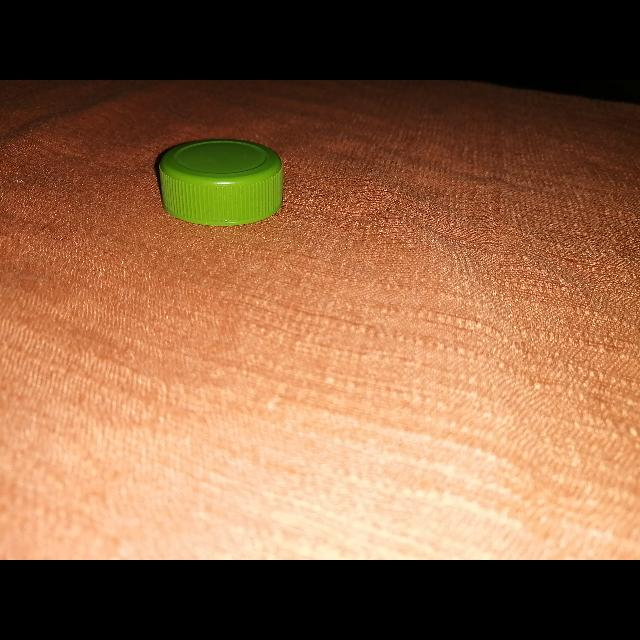plastic_bottle_cap: (158, 140, 284, 226)
